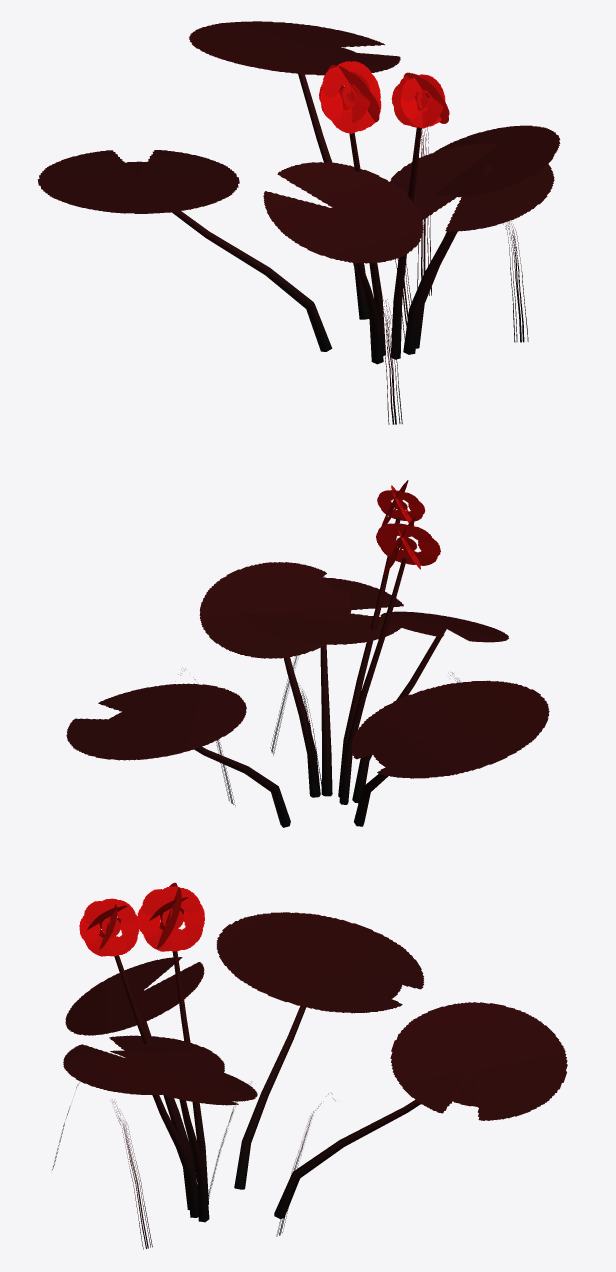
The model's file is plant_swamp_lily_a.glb.
3 views of the same model, one above another, from view 1: azimuth 30°, elevation 25°; view 2: azimuth 150°, elevation 25°; view 3: azimuth 270°, elevation 25° (orthographic). The views are drawn at different scales.
Visible parts, largest first — view 1: plant_swamp_lily_a; view 2: plant_swamp_lily_a; view 3: plant_swamp_lily_a.
Boxes of the visible parts, left/top/right/bottom form: plant_swamp_lily_a: left=37, top=21, right=560, bottom=424; plant_swamp_lily_a: left=66, top=480, right=549, bottom=827; plant_swamp_lily_a: left=52, top=882, right=567, bottom=1249.
Bounding box in the file's own units: 0.5614 × 0.3477 × 0.5944.
1 material, 1 textured.
